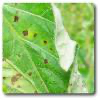Tomato Septoria leaf spot: (4, 3, 76, 91)
